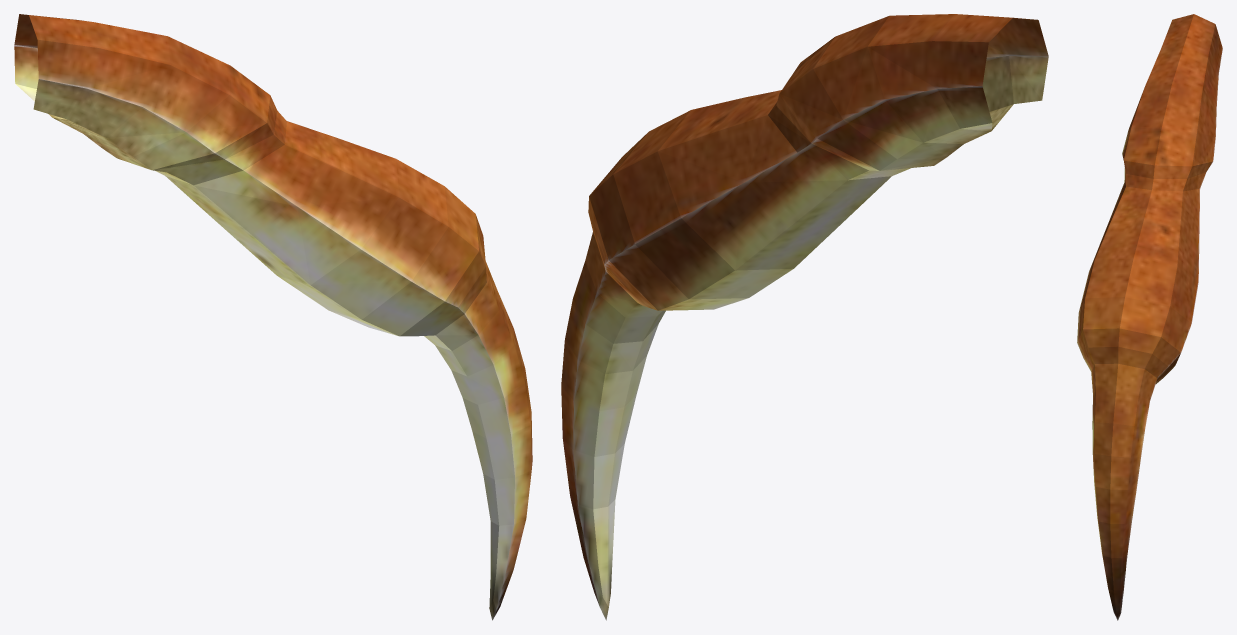
Rendered from CrabPie_1_Izq.obj.
3 views of the same model, side by side, from view 1: azimuth 30°, elevation 25°; view 2: azimuth 150°, elevation 25°; view 3: azimuth 270°, elevation 25° (orthographic). The views are drawn at different scales.
Visible parts, largest first — view 1: CrabPie_1_Izq:polySurface17; view 2: CrabPie_1_Izq:polySurface17; view 3: CrabPie_1_Izq:polySurface17.
Part boxes in pixels (x1=…): CrabPie_1_Izq:polySurface17: x1=14, y1=14, x2=532, y2=620; CrabPie_1_Izq:polySurface17: x1=561, y1=14, x2=1048, y2=620; CrabPie_1_Izq:polySurface17: x1=1077, y1=14, x2=1222, y2=620.
Size of the model in its own units: 0.4384 by 0.6137 by 0.1736.
Materials: 1 (1 with a texture image).
